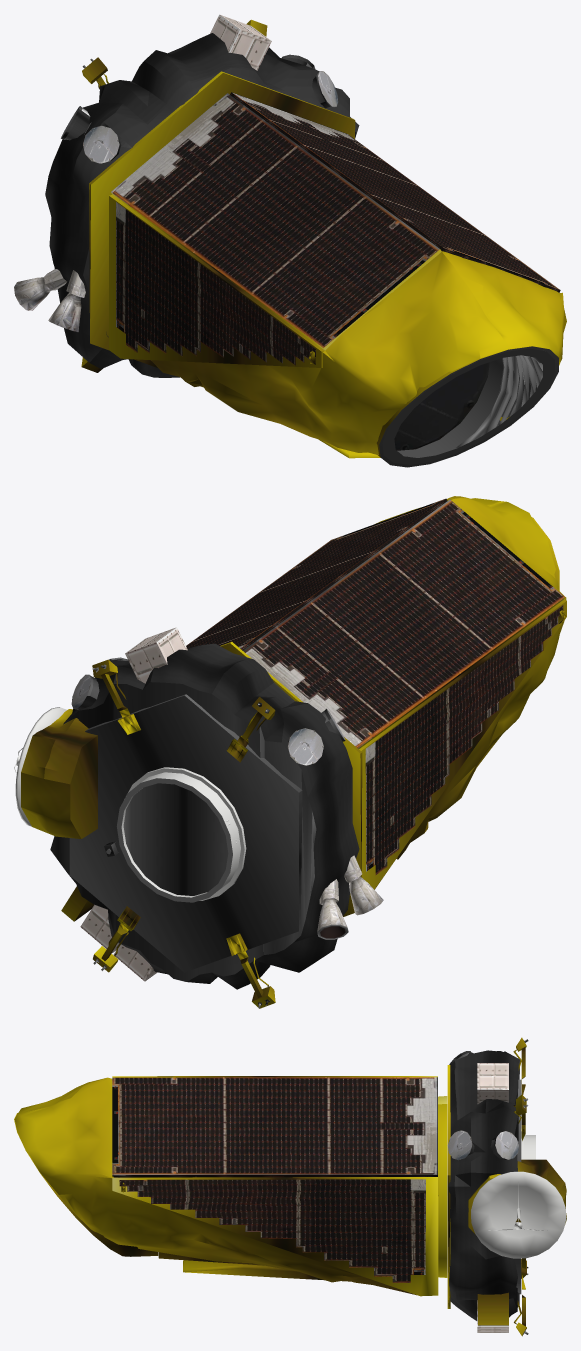
Rendered from kepler_lod1.glb.
3 renders of one model, top to bottom at view 1: azimuth 30°, elevation 25°; view 2: azimuth 150°, elevation 25°; view 3: azimuth 270°, elevation 25°, orthographic. The views are drawn at different scales.
Visible parts, largest first — view 1: kepler_lod1; view 2: kepler_lod1; view 3: kepler_lod1.
Boxes of the visible parts, bbox=[...] form: kepler_lod1: bbox=[14, 14, 566, 467]; kepler_lod1: bbox=[14, 496, 566, 1008]; kepler_lod1: bbox=[14, 1037, 566, 1336].
Size of the model in its own units: 2.71 by 2.7 by 5.1.
Materials: 6 (4 with a texture image).
